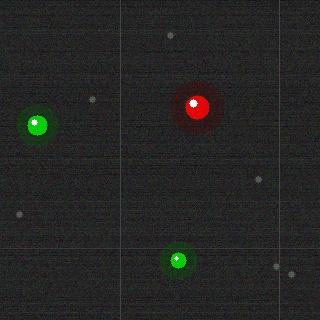green_normal: (25, 113, 49, 137), (168, 250, 188, 270)
red_fault: (183, 93, 211, 121)
